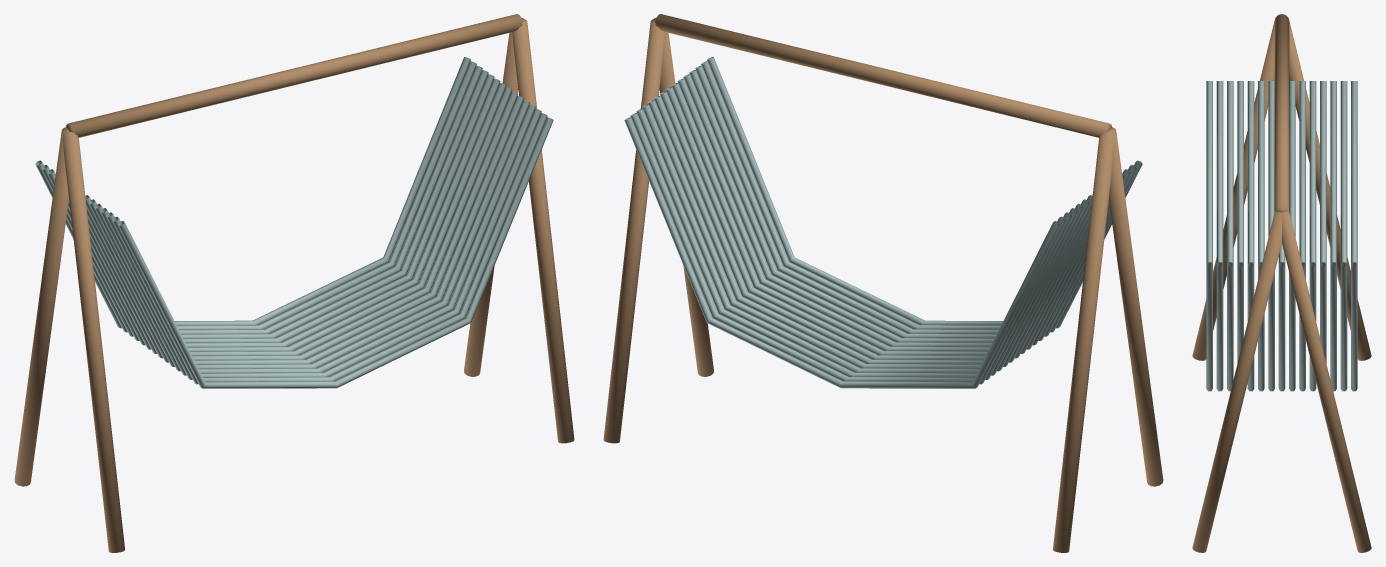
The model's file is atelier-hammock.glb.
3 renders of one model, left to right at view 1: azimuth 30°, elevation 25°; view 2: azimuth 150°, elevation 25°; view 3: azimuth 270°, elevation 25°, orthographic. The views are drawn at different scales.
Parts seen in each view (by area): view 1: fabric.098, legs.197; view 2: fabric.098, legs.197; view 3: fabric.098, legs.197.
Boxes of the visible parts, x1,y1,x2,y2 form: fabric.098: [35, 57, 553, 388]; legs.197: [14, 14, 574, 552]; fabric.098: [624, 57, 1142, 388]; legs.197: [603, 14, 1163, 552]; fabric.098: [1206, 81, 1357, 391]; legs.197: [1192, 14, 1371, 552].
Bounding box in the file's own units: 2.27 × 1.84 × 0.8683.
